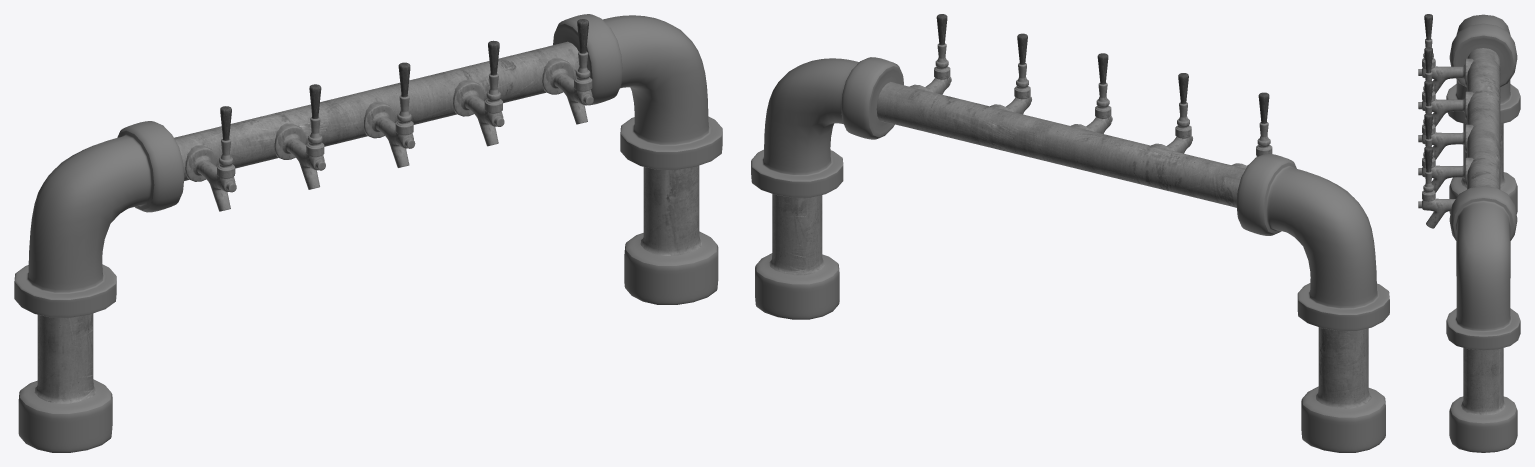
The model's file is Pipe_Tap_With_Textures.fbx.
3 views of the same model, side by side, from view 1: azimuth 30°, elevation 25°; view 2: azimuth 150°, elevation 25°; view 3: azimuth 270°, elevation 25° (orthographic). The views are drawn at different scales.
Visible parts, largest first — view 1: Tap_Pipe5, Unsmoothed_Tap3, Unsmoothed_Tap6, Unsmoothed_Tap5, Unsmoothed_Tap2, Unsmoothed_Tap4; view 2: Tap_Pipe5, Unsmoothed_Tap2, Unsmoothed_Tap6, Unsmoothed_Tap4, Unsmoothed_Tap3, Unsmoothed_Tap5; view 3: Tap_Pipe5, Unsmoothed_Tap3, Unsmoothed_Tap5, Unsmoothed_Tap6, Unsmoothed_Tap2, Unsmoothed_Tap4.
Boxes of the visible parts, x1,y1,x2,y2 form: Tap_Pipe5: (14,14,722,452); Unsmoothed_Tap3: (274,84,325,189); Unsmoothed_Tap6: (542,19,593,124); Unsmoothed_Tap5: (185,106,236,211); Unsmoothed_Tap2: (364,62,415,167); Unsmoothed_Tap4: (453,40,504,146); Tap_Pipe5: (751,57,1389,452); Unsmoothed_Tap2: (1071,53,1112,133); Unsmoothed_Tap6: (910,14,951,94); Unsmoothed_Tap4: (990,33,1031,114); Unsmoothed_Tap3: (1151,73,1192,153); Unsmoothed_Tap5: (1231,92,1272,168); Tap_Pipe5: (1446,14,1520,452); Unsmoothed_Tap3: (1418,47,1473,126); Unsmoothed_Tap5: (1418,14,1473,93); Unsmoothed_Tap6: (1418,146,1455,228); Unsmoothed_Tap2: (1418,80,1473,159); Unsmoothed_Tap4: (1418,113,1473,192).
Size of the model in its own units: 17.12 by 7.61 by 2.88.
